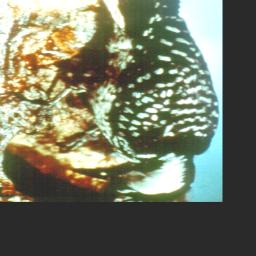Woodpecker: (10, 0, 220, 201)
